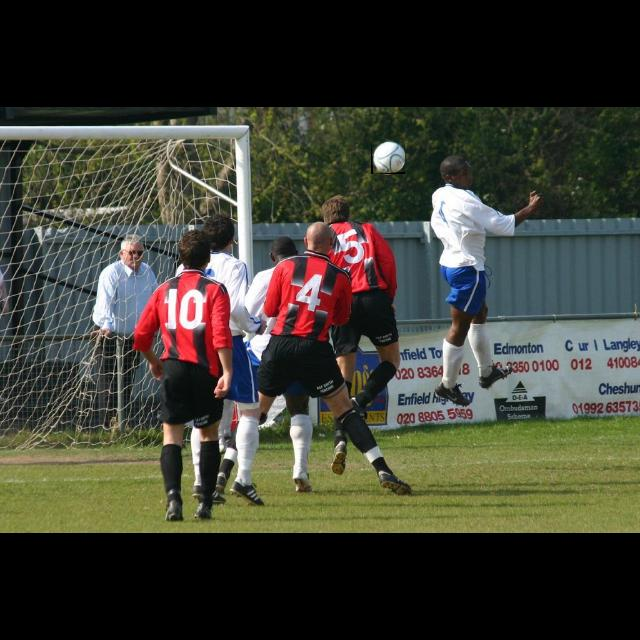Football: (371, 140, 405, 174)
